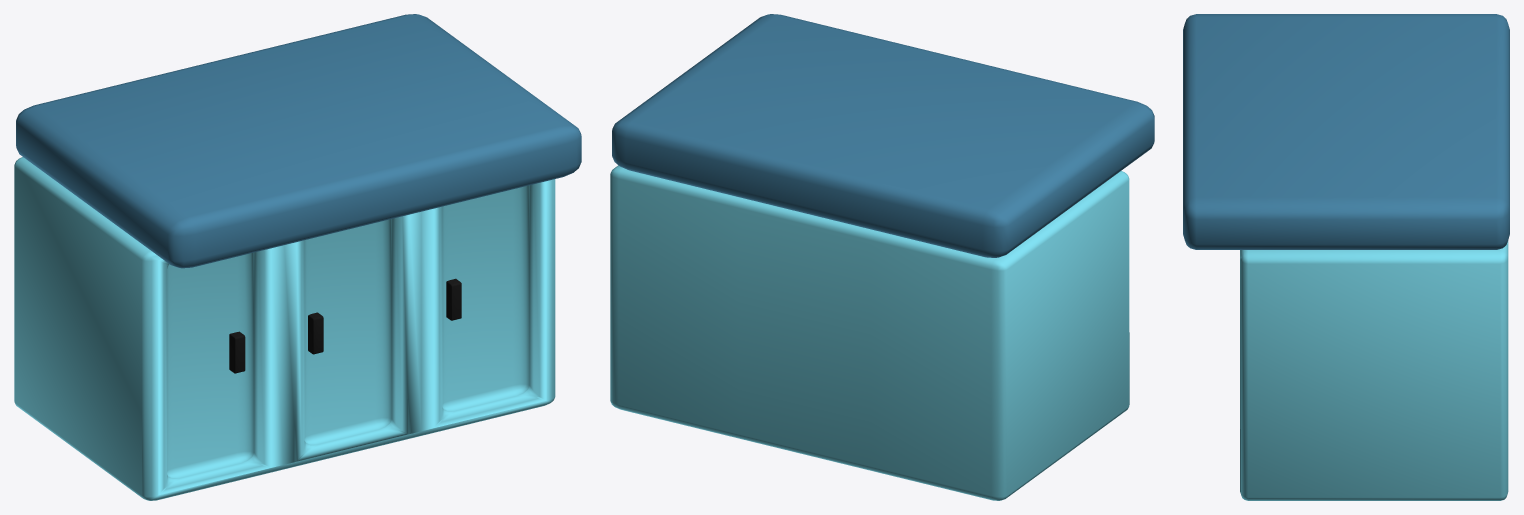
File: Cabinets_Bathroom.fbx
The picture shows the model from 3 angles, left to right: view 1: azimuth 30°, elevation 25°; view 2: azimuth 150°, elevation 25°; view 3: azimuth 270°, elevation 25°; orthographic projection. The views are drawn at different scales.
Visible parts, largest first — view 1: Cabinets .001, Countertop.003, Handle.010, Handle.008, Handle.009; view 2: Cabinets .001, Countertop.003; view 3: Countertop.003, Cabinets .001.
Boxes of the visible parts, bbox=[...] form: Cabinets .001: bbox=[14, 157, 555, 500]; Countertop.003: bbox=[16, 14, 581, 268]; Handle.010: bbox=[229, 331, 245, 373]; Handle.008: bbox=[446, 278, 461, 320]; Handle.009: bbox=[308, 312, 323, 354]; Cabinets .001: bbox=[610, 165, 1129, 500]; Countertop.003: bbox=[612, 14, 1154, 257]; Countertop.003: bbox=[1183, 14, 1509, 249]; Cabinets .001: bbox=[1240, 241, 1508, 500].
Bounding box in the file's own units: 123 × 85.32 × 84.89.
